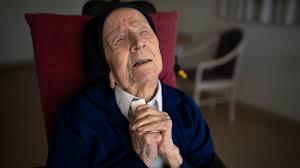Persons: (87, 6, 176, 92)
